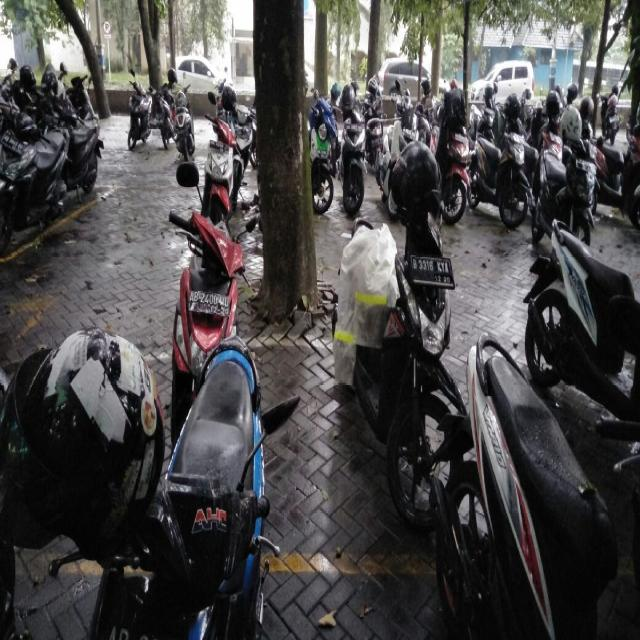plate: (410, 252, 453, 286), (188, 288, 231, 318)
